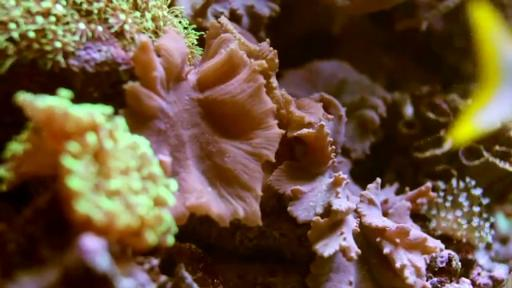Fish: (446, 0, 511, 147)
